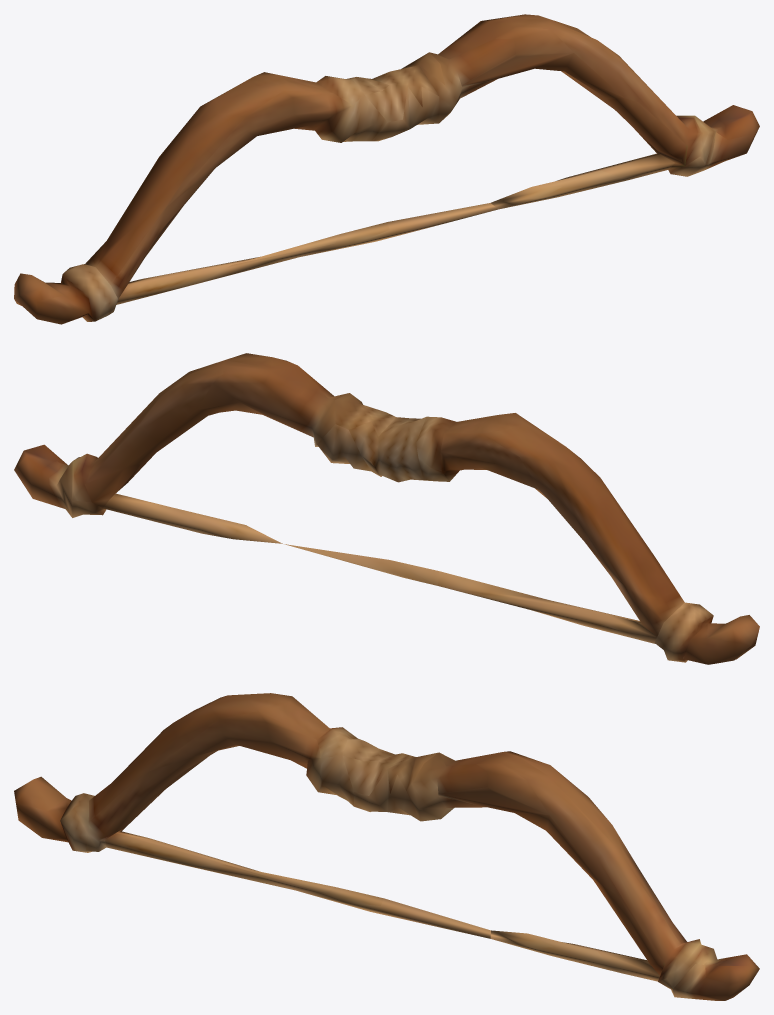
File: Bow.glb
The picture shows the model from 3 angles, top to bottom: view 1: azimuth 30°, elevation 25°; view 2: azimuth 150°, elevation 25°; view 3: azimuth 330°, elevation 25°; orthographic projection.
Parts seen in each view (by area): view 1: Bow; view 2: Bow; view 3: Bow.
Boxes of the visible parts, <box> form: Bow: <box>14,14,759,324</box>; Bow: <box>14,353,759,664</box>; Bow: <box>14,693,759,1000</box>.
Size of the model in its own units: 1 by 0.2573 by 0.0844.
Materials: 1 (1 with a texture image).
